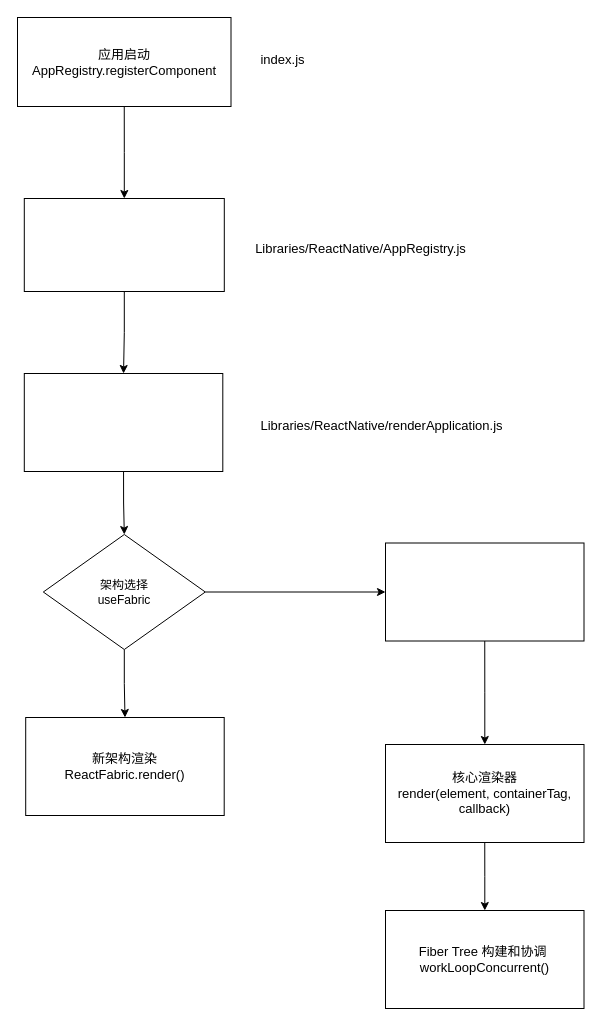
Image size: 602x1026. Some labels were removed from this diagram. The shapes that lost their labels are listed below. From the top down, each one's box as (x1, y1, x2, y2) in pixels, then its label:
(23, 198, 224, 292): 包装组件 AppRegistry.renderApplication()
(23, 372, 223, 472): 开始渲染 Renderer.renderElement
(384, 542, 584, 641): 旧架构渲染 ReactNative.render()
